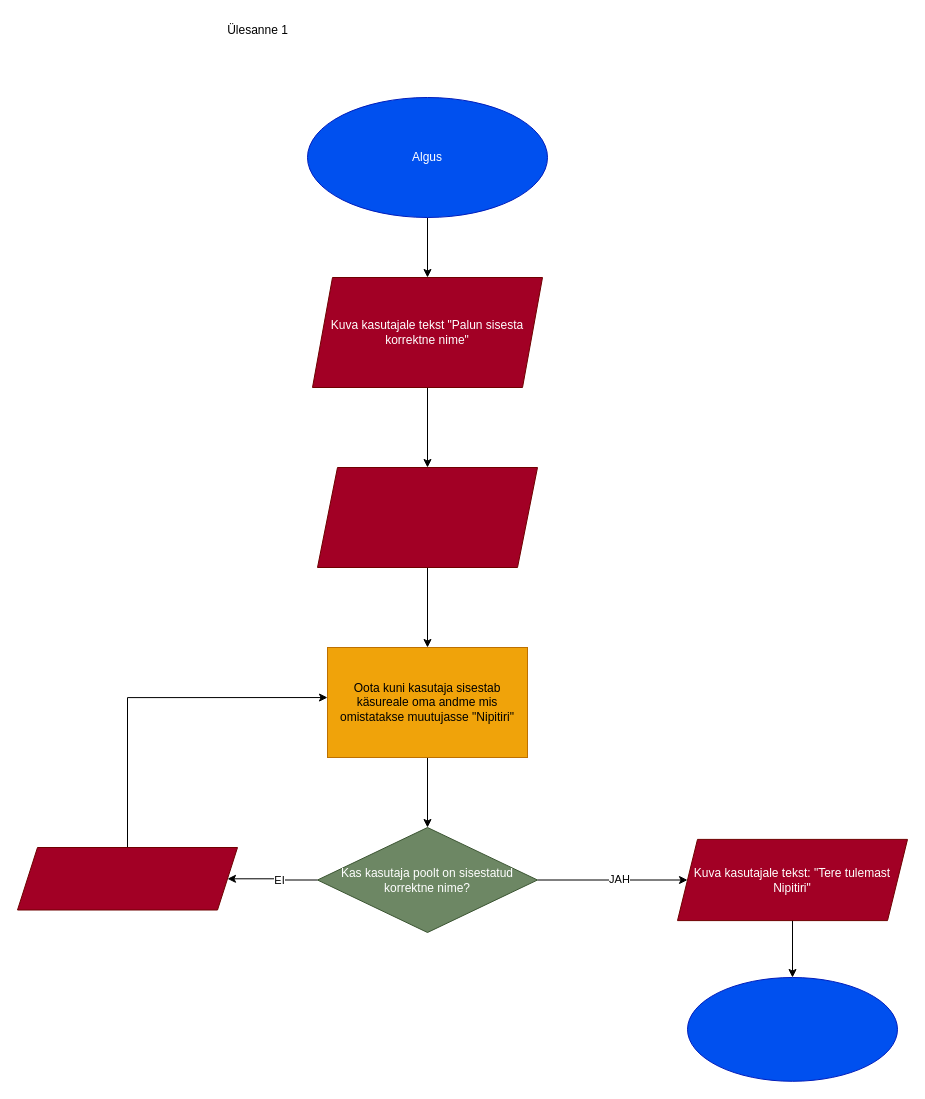
The diagram is 925 pixels wide and 1099 high, and some of its shapes have lost their labels. The shapes that lost their labels are listed below. From the top down, each one's box as (x1, y1, x2, y2) in pixels, then its label:
(316, 466, 538, 568): Korrektne nimi peaks olema "Nipitiri"
(16, 846, 238, 910): Kuva kasutajale tekst: "U ARE NOT NIPITIRI, GO AWAY FROM COMPUTER"
(686, 976, 898, 1081): Lõpp
